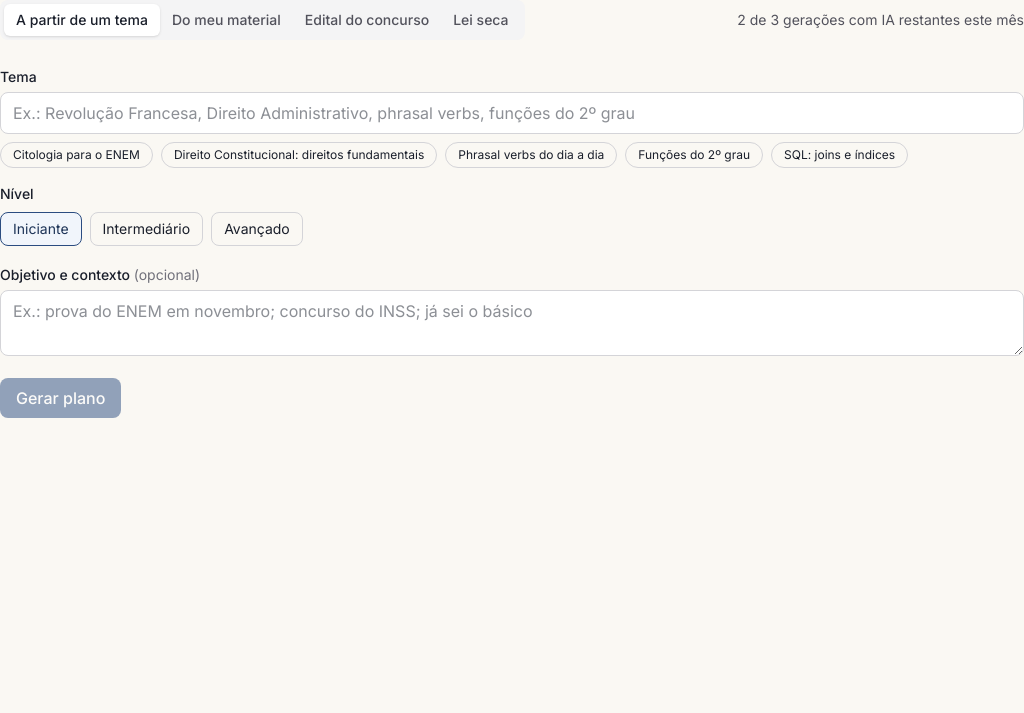
Test case: Novo tema › gera a partir de texto colado
Step 1. Click the tab "Do meu material" → (226, 20), box [160,4,293,36]
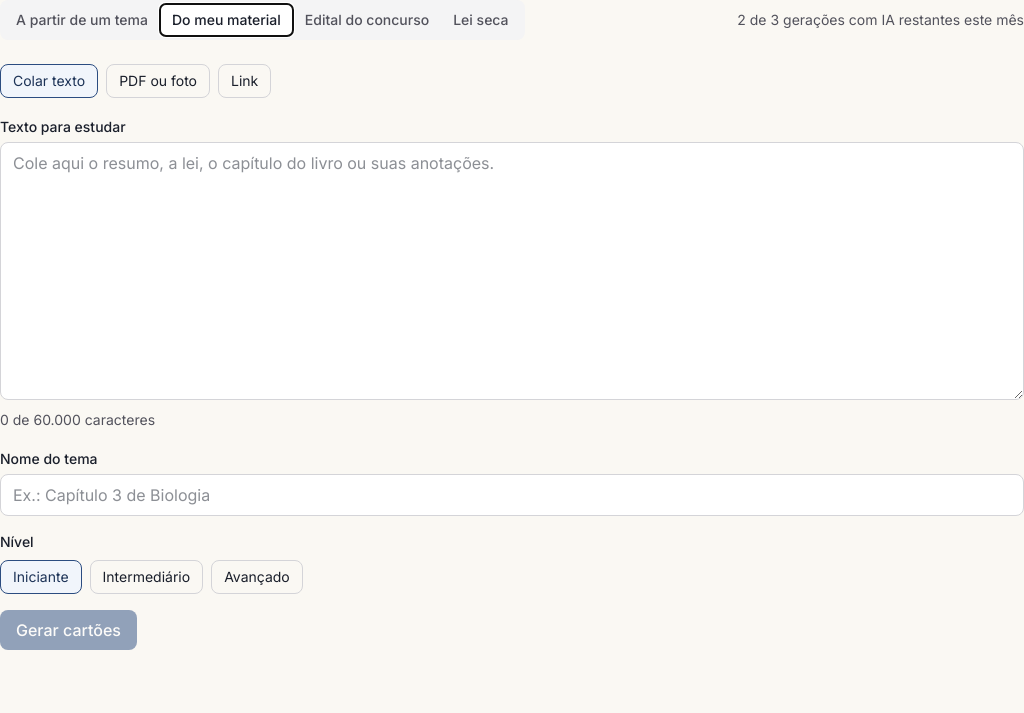
Step 2. Type "A mitocôndria é a organela que produz energia na forma de ATP." into the text box labelled "Texto para estudar" → (512, 271), box [0,142,1023,400]
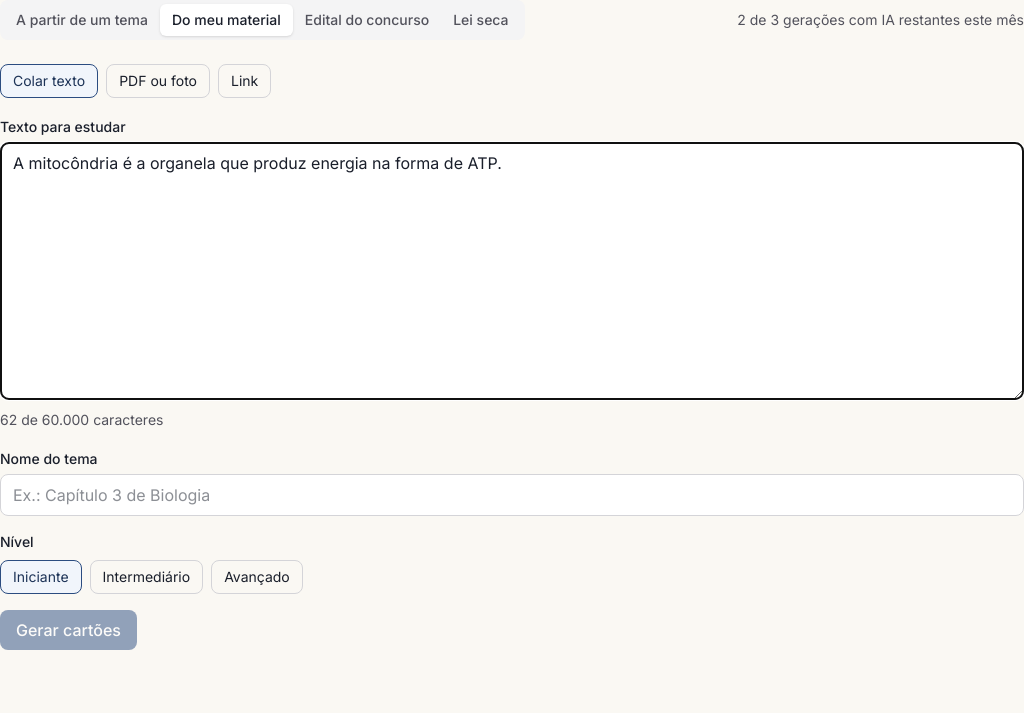
Step 3. Type "Organelas" into the field labelled "Nome do tema" → (512, 495), box [0,474,1023,516]
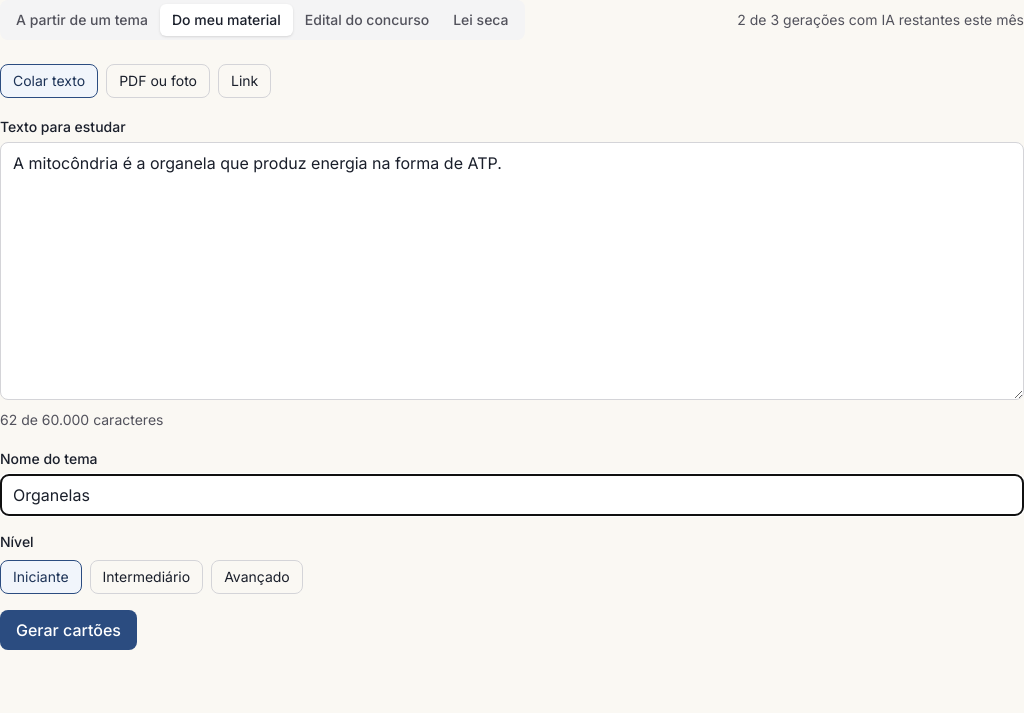
Step 4. Click the button "Gerar cartões" → (68, 630), box [0,610,137,650]
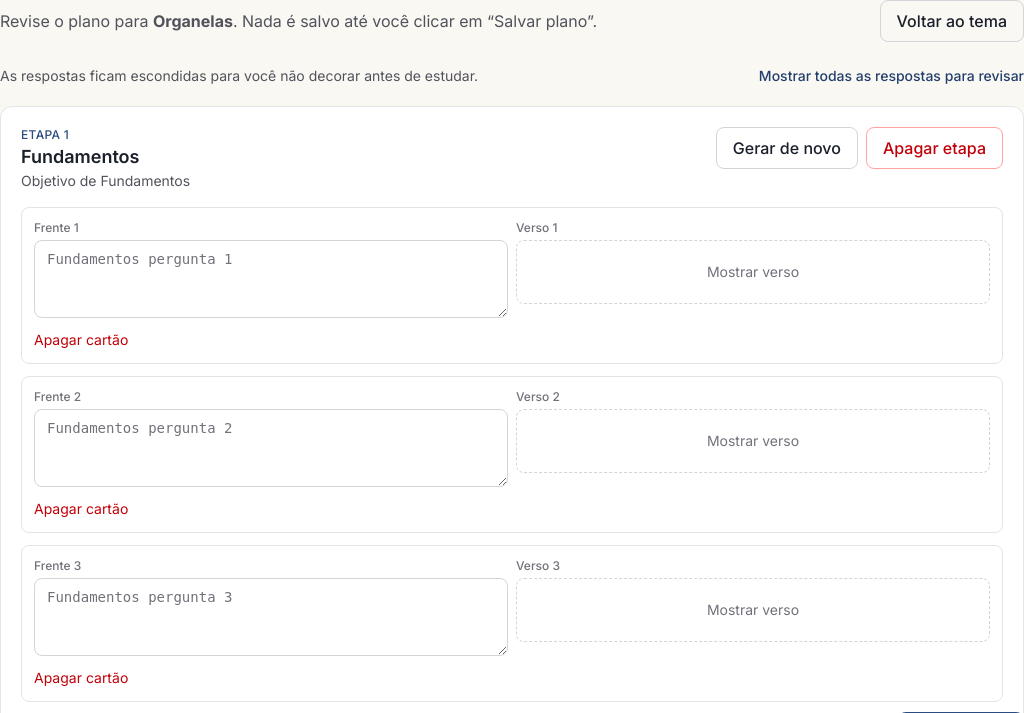
Now the heading "Fundamentos" is shown, box [21,146,140,167]
